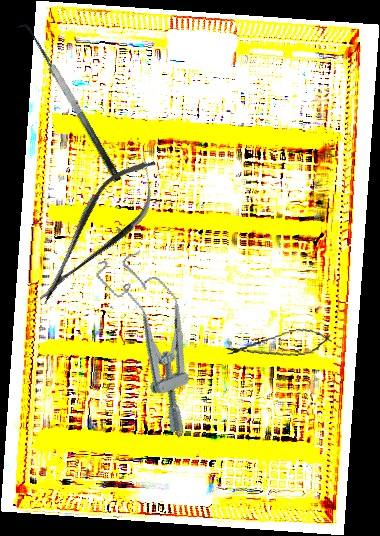Micro Scissor: (19, 145, 176, 317), (222, 324, 336, 366)
Spatula Surgical: (12, 18, 123, 190)
Speculum: (92, 241, 221, 438)
